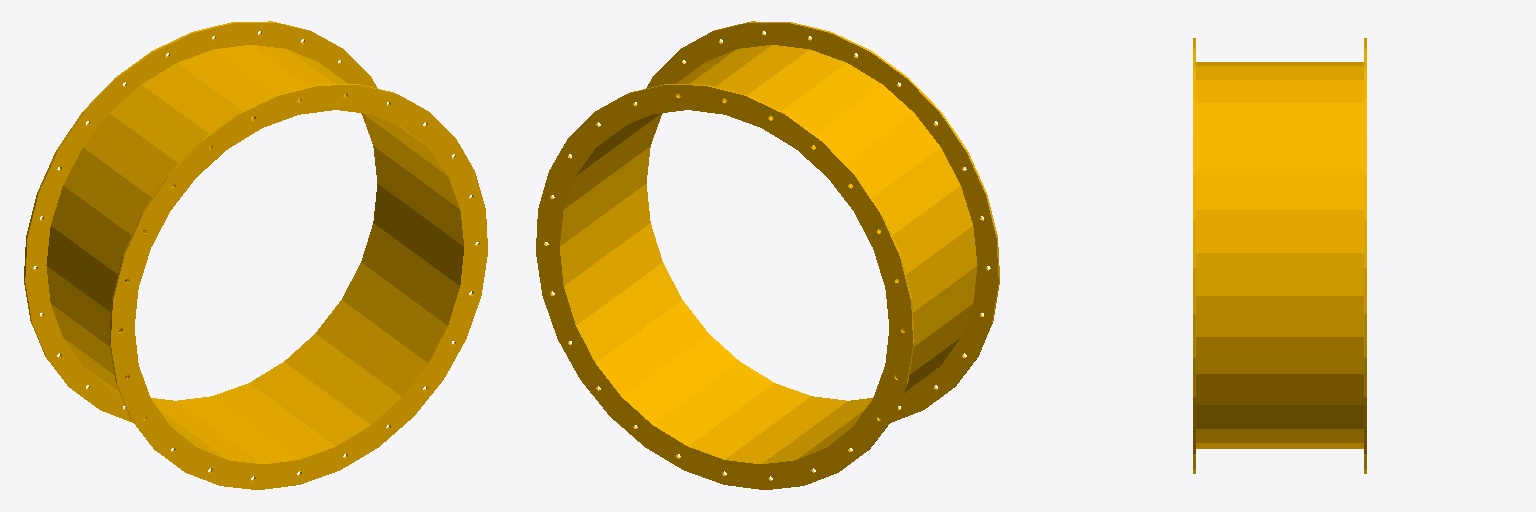
File: lige-35-obj.obj
3 renders of one model, left to right at view 1: azimuth 30°, elevation 25°; view 2: azimuth 150°, elevation 25°; view 3: azimuth 270°, elevation 25°, orthographic.
Parts seen in each view (by area): view 1: lige-35-obj; view 2: lige-35-obj; view 3: lige-35-obj.
Part boxes in pixels (x1,y1,x2,y2): lige-35-obj: (24,21,487,489); lige-35-obj: (536,21,999,489); lige-35-obj: (1193,38,1366,473).
Bounding box in the file's own units: 0.8787 × 0.8774 × 0.3508.